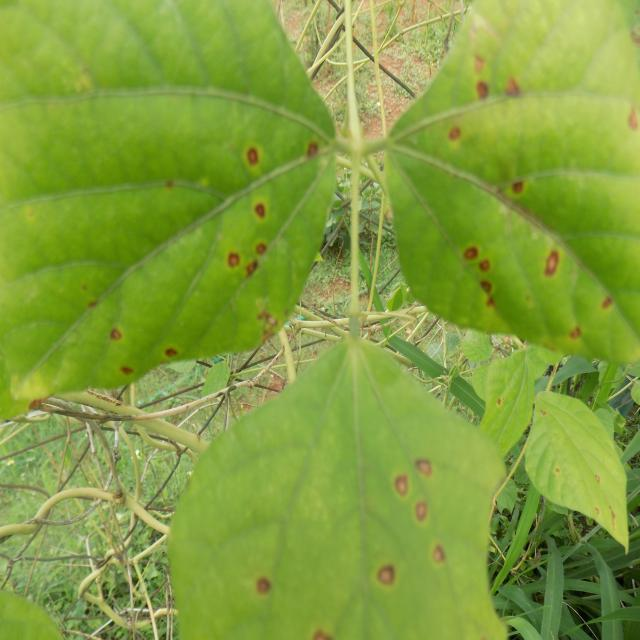Dolicos bean_cercospora leaf spot: (0, 0, 343, 396), (162, 340, 507, 640), (374, 0, 640, 369), (527, 386, 630, 550)
